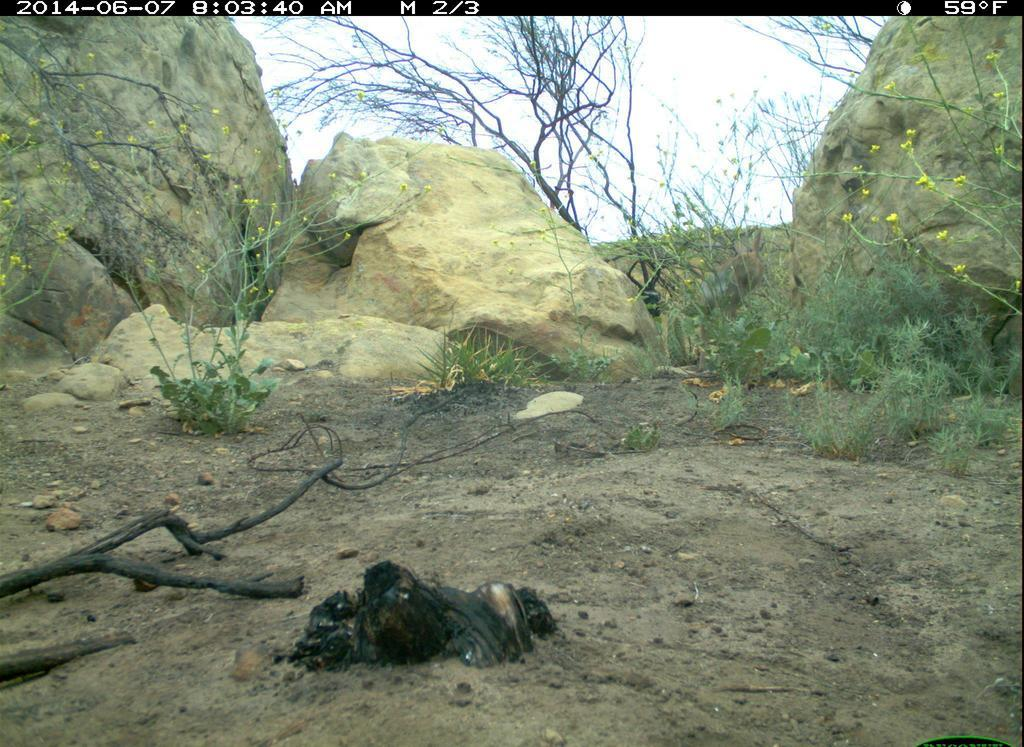rabbit: (694, 225, 769, 348)
